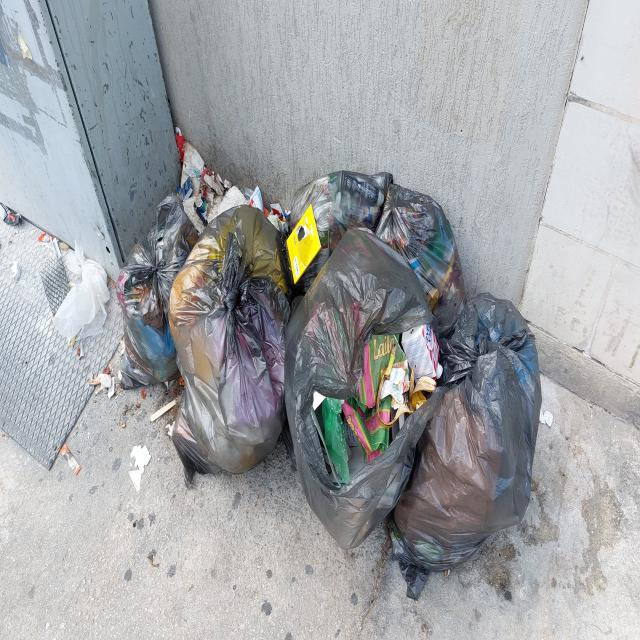Mixed Waste -Black Bag-: (284, 230, 443, 553), (385, 294, 543, 604), (174, 205, 302, 491), (118, 194, 202, 389), (376, 181, 467, 333), (291, 173, 395, 291)
